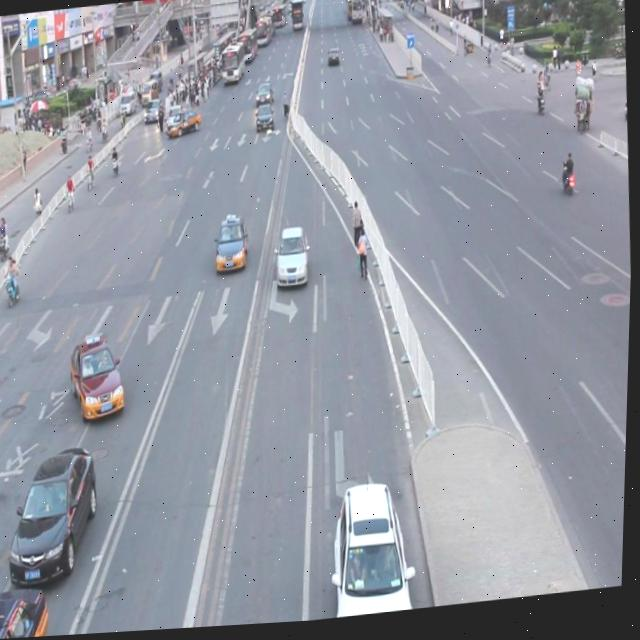car: (5, 441, 106, 588), (331, 480, 420, 622), (69, 332, 130, 424), (0, 580, 55, 639), (273, 226, 313, 295), (213, 214, 252, 278)
